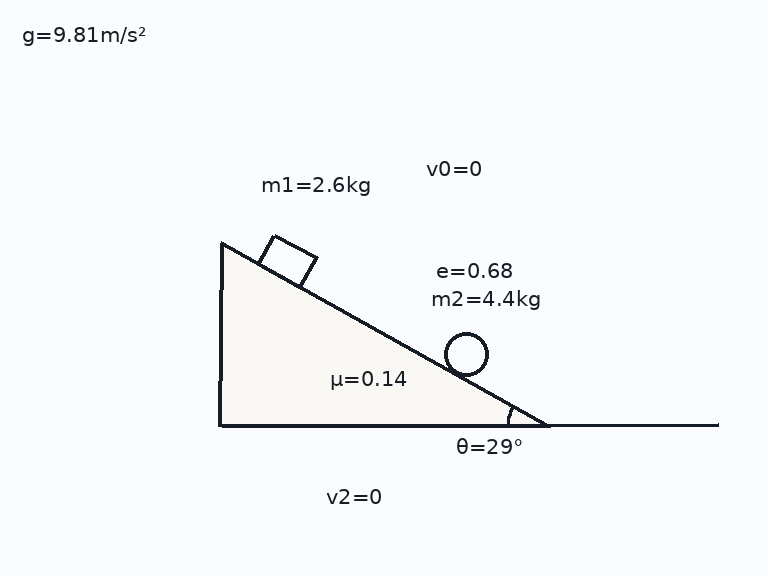ball: (442, 330, 490, 378)
block: (256, 233, 317, 289)
ramp: (219, 242, 550, 427)
